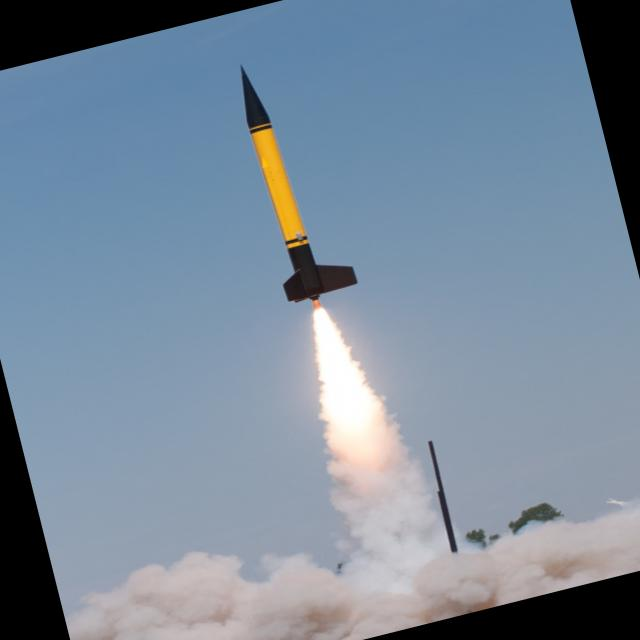rocket: (218, 53, 374, 403)
